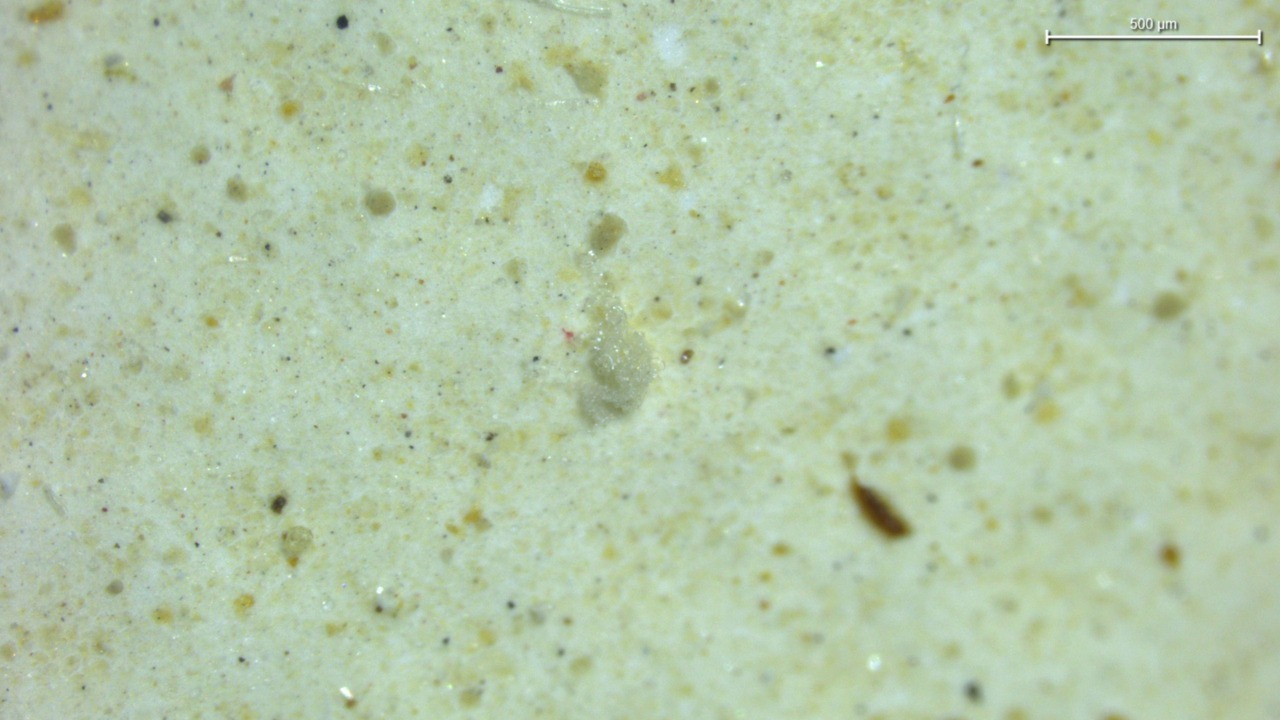microplastic_fragment: (581, 290, 654, 423)
